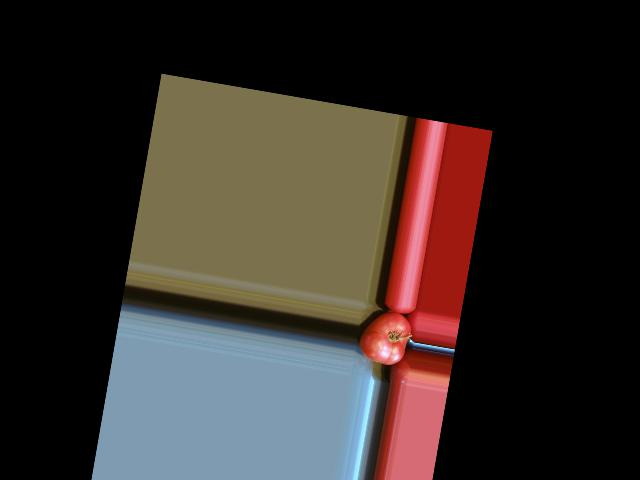tomato: (356, 307, 413, 367)
